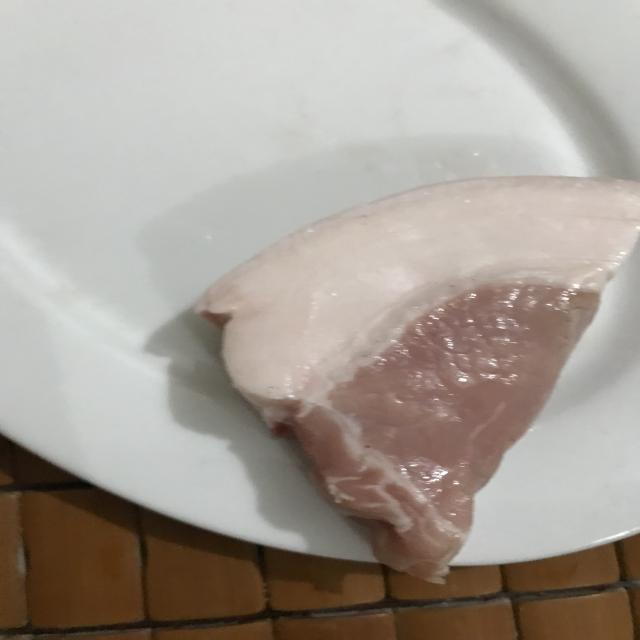chicken: (206, 166, 640, 586)
